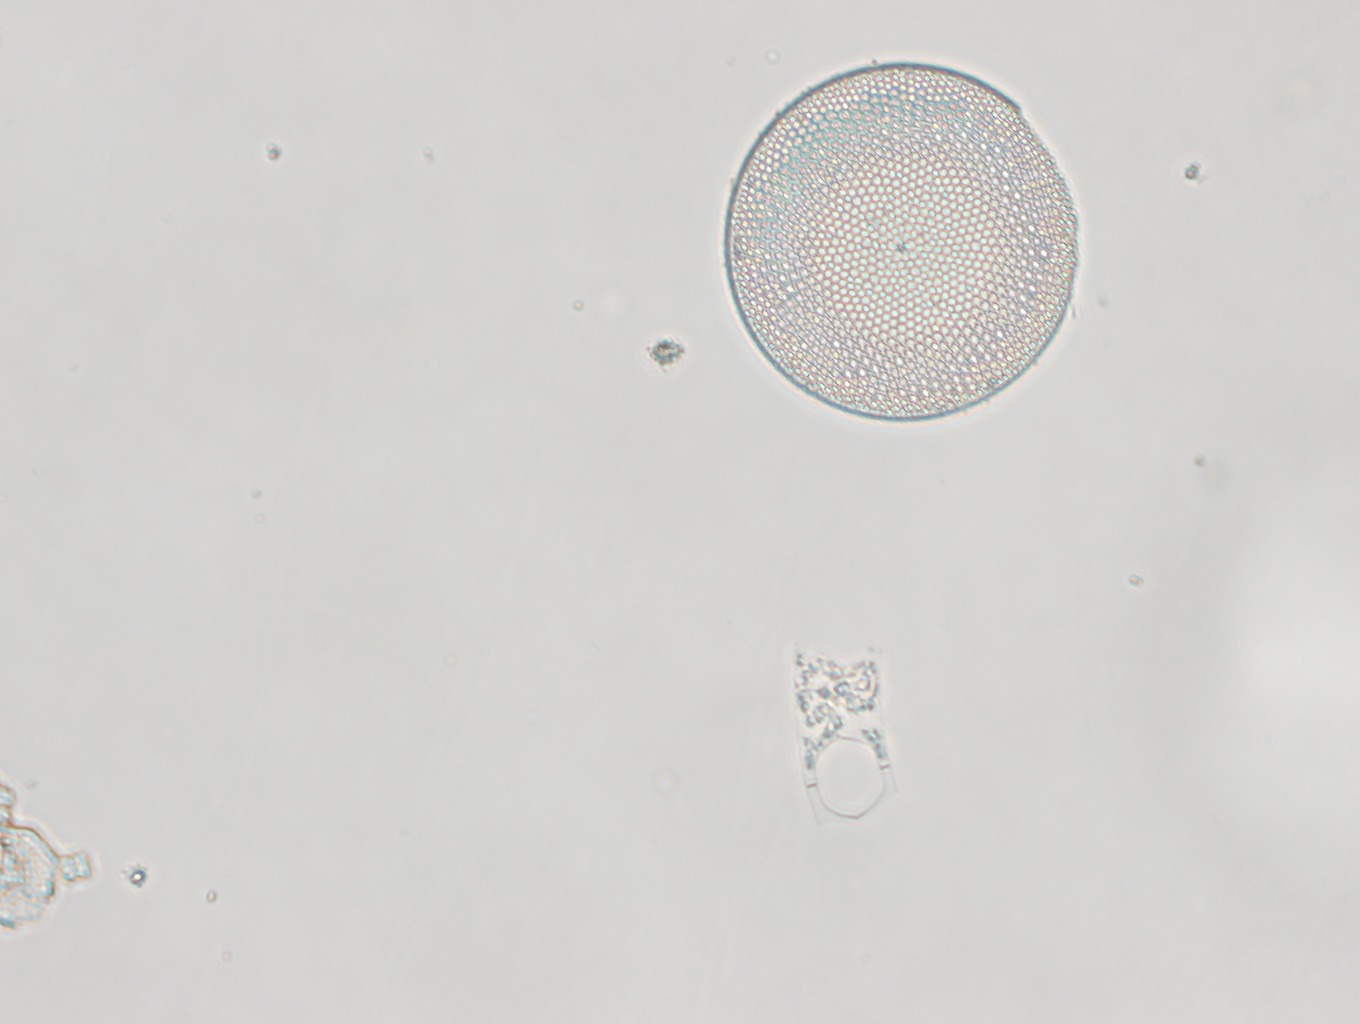coscinodiscus: (720, 61, 1080, 419)
eucampia: (791, 632, 905, 840)
